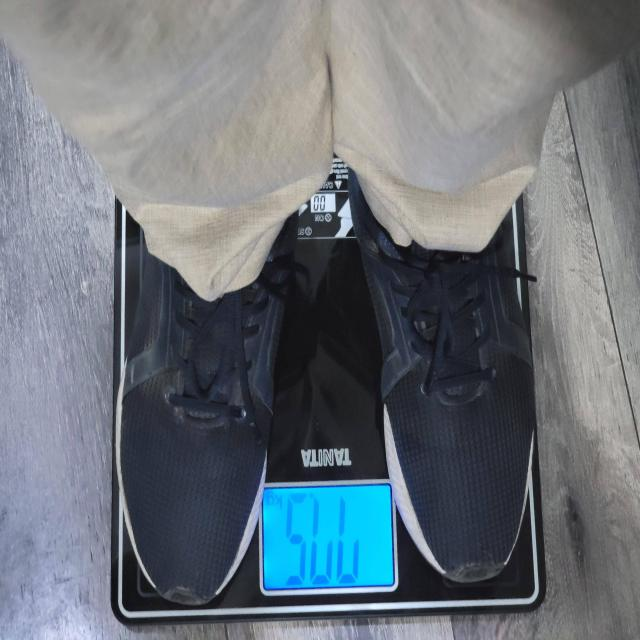ws: (18, 0, 634, 640)
